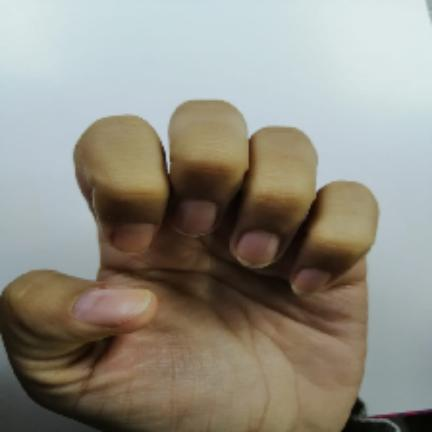Nail: (74, 289, 151, 325), (170, 200, 218, 237), (235, 230, 279, 269), (111, 223, 155, 255), (291, 269, 328, 298)
